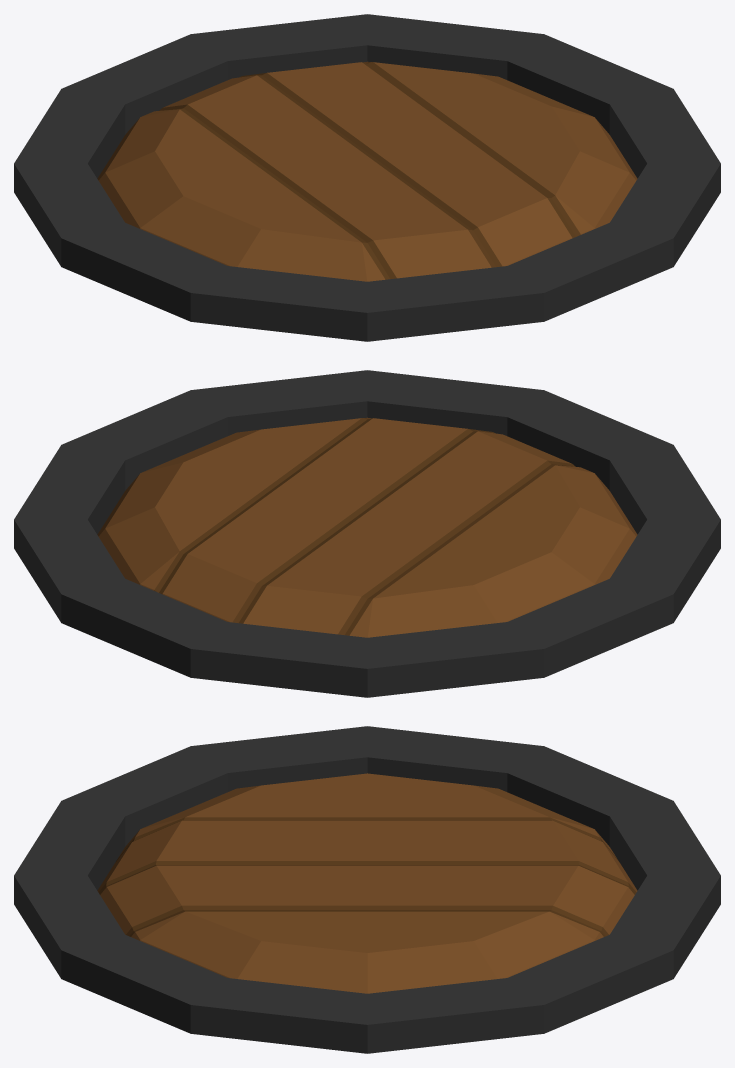
File: F_Shield_A_Wood.fbx
3 renders of one model, top to bottom at view 1: azimuth 30°, elevation 25°; view 2: azimuth 150°, elevation 25°; view 3: azimuth 270°, elevation 25°, orthographic.
Parts seen in each view (by area): view 1: F_Shield_A_Wood; view 2: F_Shield_A_Wood; view 3: F_Shield_A_Wood.
Part boxes in pixels (<box>): F_Shield_A_Wood: <box>14,14,720,341</box>; F_Shield_A_Wood: <box>14,370,720,697</box>; F_Shield_A_Wood: <box>14,726,720,1053</box>.
Bounding box in the file's own units: 75.7 × 7.63 × 75.7.
